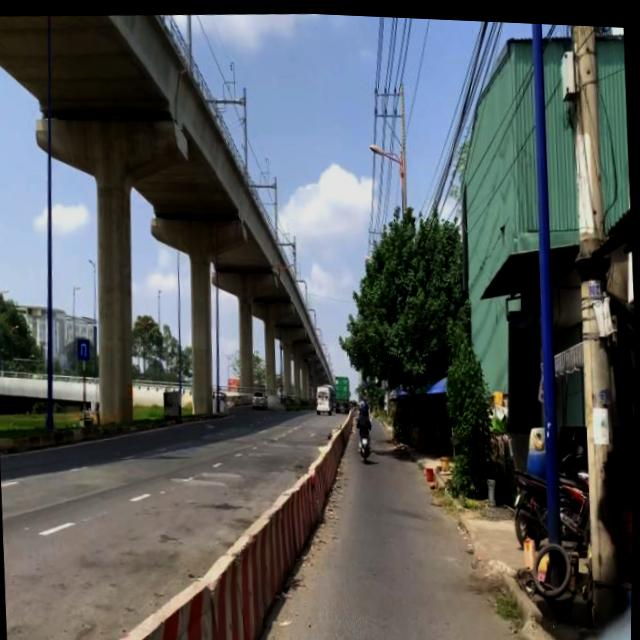Cho quay xe: (78, 337, 92, 361)
